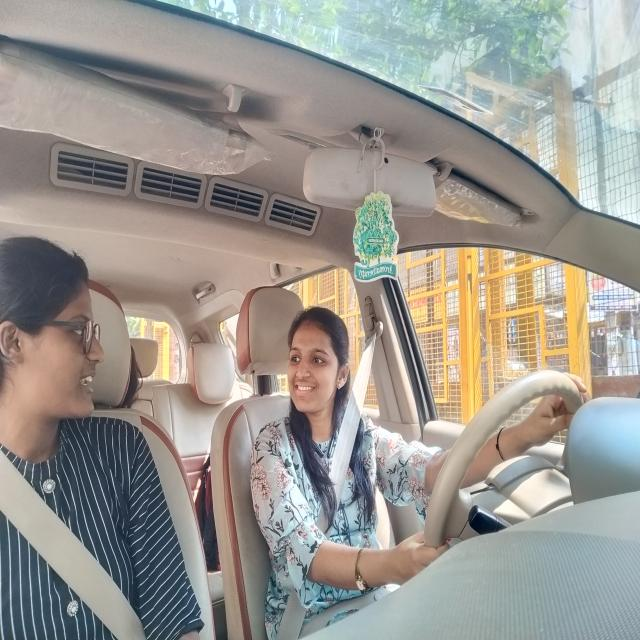LeftRight: (288, 306, 357, 426)
person: (0, 234, 118, 427)
talking: (77, 364, 103, 399), (293, 382, 322, 398)
